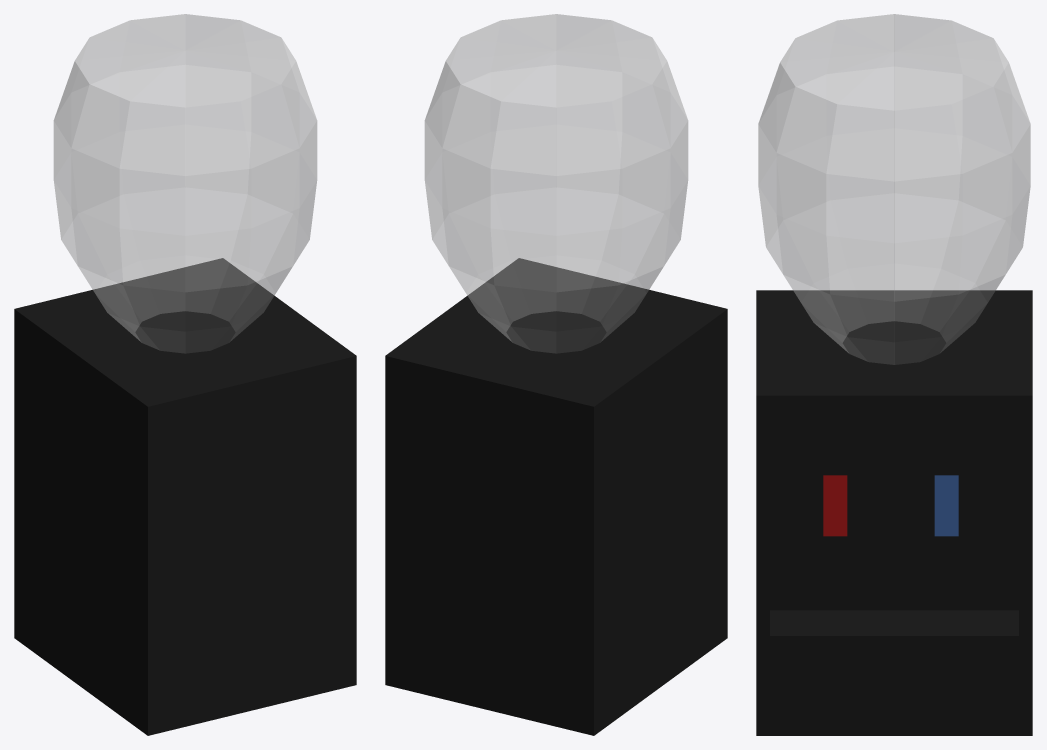
File: water cooler colorato.fbx
The picture shows the model from 3 angles, left to right: view 1: azimuth 30°, elevation 25°; view 2: azimuth 150°, elevation 25°; view 3: azimuth 270°, elevation 25°; orthographic projection. The views are drawn at different scales.
Visible parts, largest first — view 1: Generic_1, Generic; view 2: Generic_1, Generic; view 3: Generic_1, Generic, Generic_3, Generic_2, Generic_6, Cylinder.
Part boxes in pixels (x1,y1,x2,y2): Generic_1: (14,258,356,735); Generic: (53,14,317,353); Generic_1: (385,258,727,735); Generic: (424,14,688,353); Generic_1: (756,290,1032,735); Generic: (758,14,1030,364); Generic_3: (770,475,1018,610); Generic_2: (770,610,1018,635); Generic_6: (934,475,958,536); Cylinder: (823,475,847,536).
Bounding box in the file's own units: 2 × 5.12 × 2.03.
